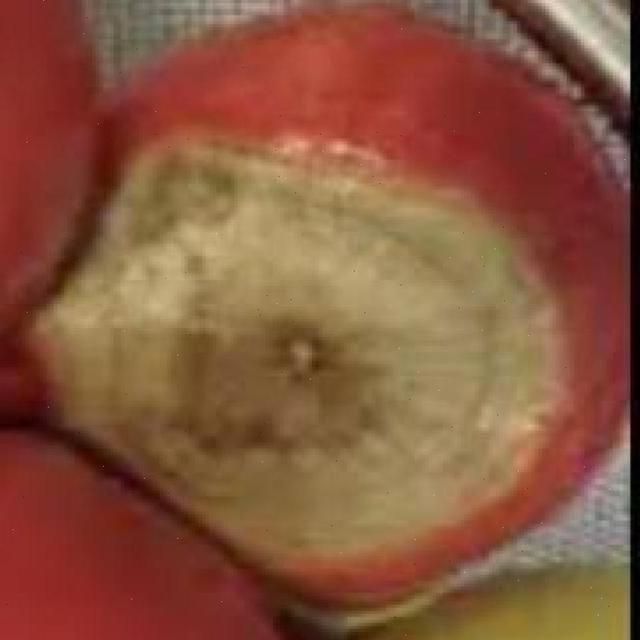Blossom End Rot Fruit: (17, 88, 371, 375)
